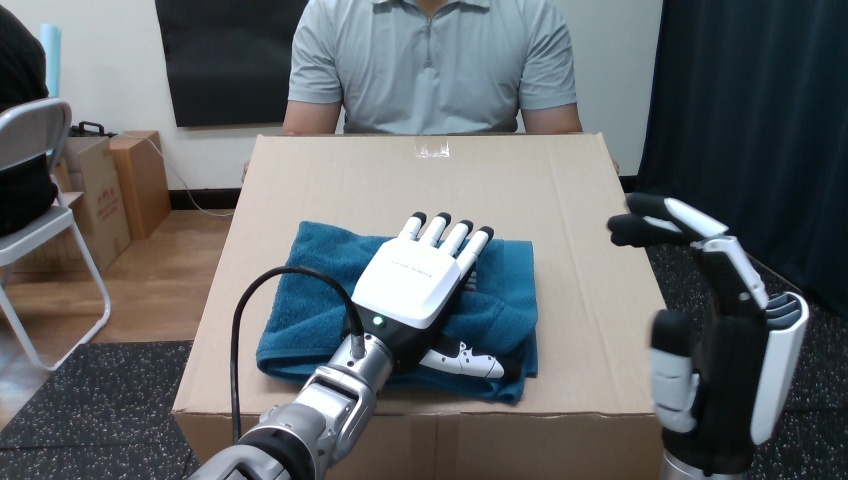left robot hand: (190, 212, 504, 479), (607, 193, 808, 478), (236, 271, 350, 437)
